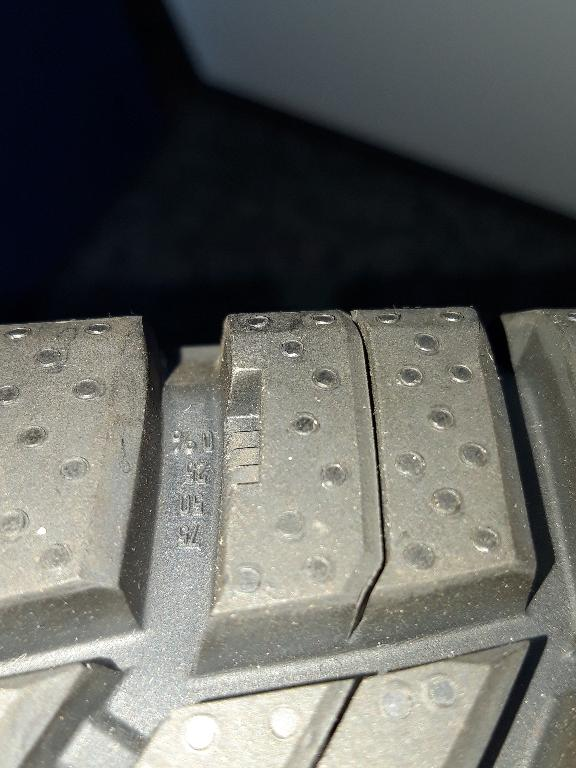temoin:100: (214, 363, 271, 530)
